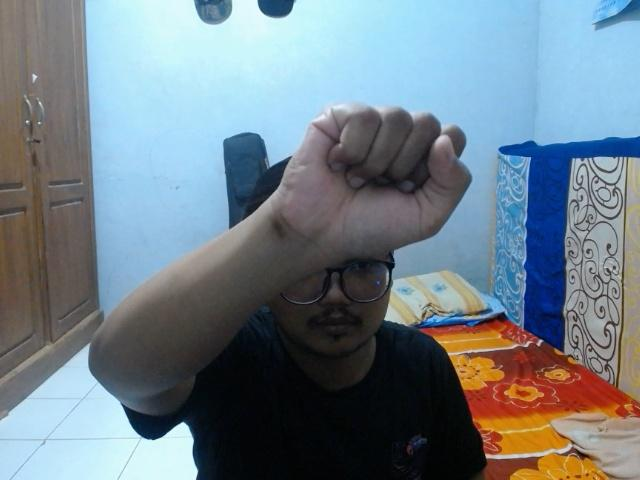Grab: (272, 97, 476, 271)
